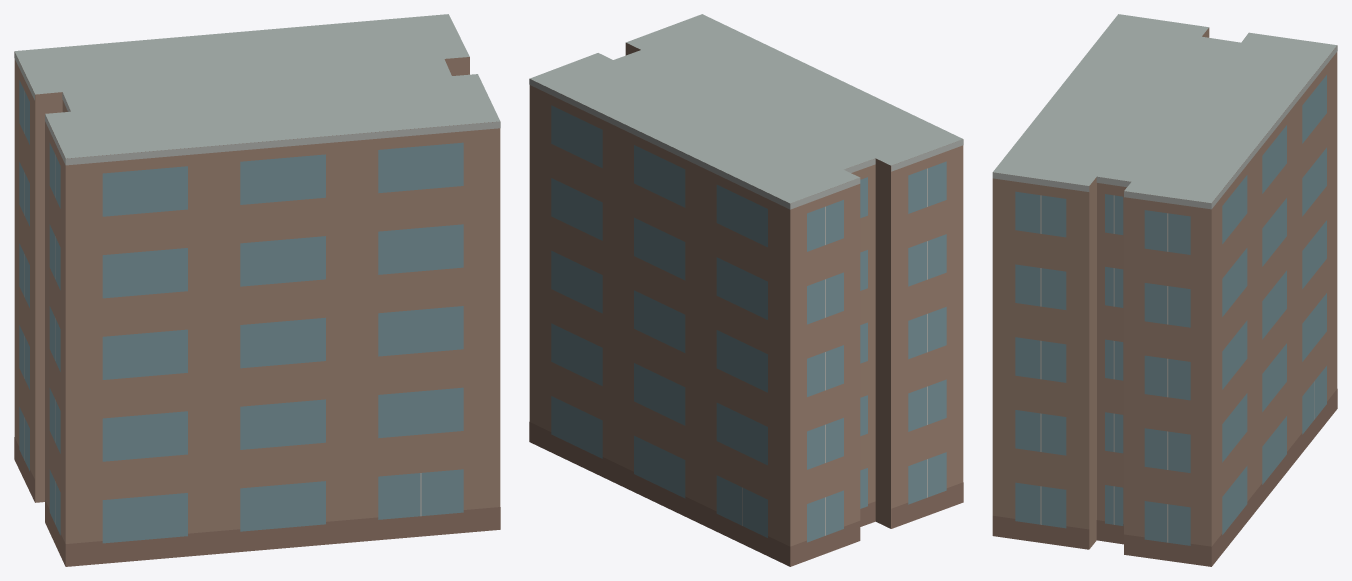
The model's file is survey-upis-32998602.glb.
3 renders of one model, left to right at view 1: azimuth 30°, elevation 25°; view 2: azimuth 150°, elevation 25°; view 3: azimuth 270°, elevation 25°, orthographic. The views are drawn at different scales.
Parts seen in each view (by area): view 1: survey-upis-32998602.tmp; view 2: survey-upis-32998602.tmp; view 3: survey-upis-32998602.tmp.
Part boxes in pixels (x1,y1,x2,y2): survey-upis-32998602.tmp: (14, 14, 500, 566); survey-upis-32998602.tmp: (529, 14, 963, 566); survey-upis-32998602.tmp: (992, 14, 1337, 566).
Size of the model in its own units: 16.19 by 14.5 by 12.47.
